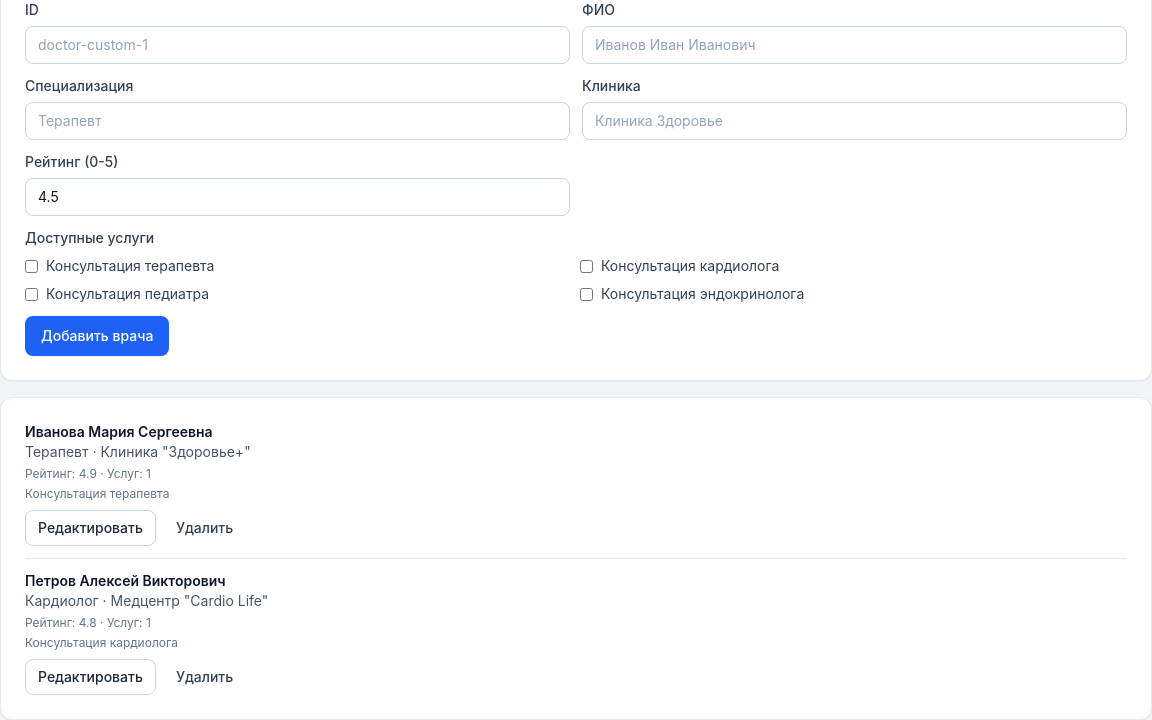
AdminDoctorsPage integration › редактирует врача и обновляет назначенные услуги
The image size is (1152, 720).
(page scrolled)
Expected: the element "Иванова Мария Сергеевна" is shown, [25,423,251,546]
Click the button "Редактировать" below "4.9": (90, 528) [25,510,156,546]
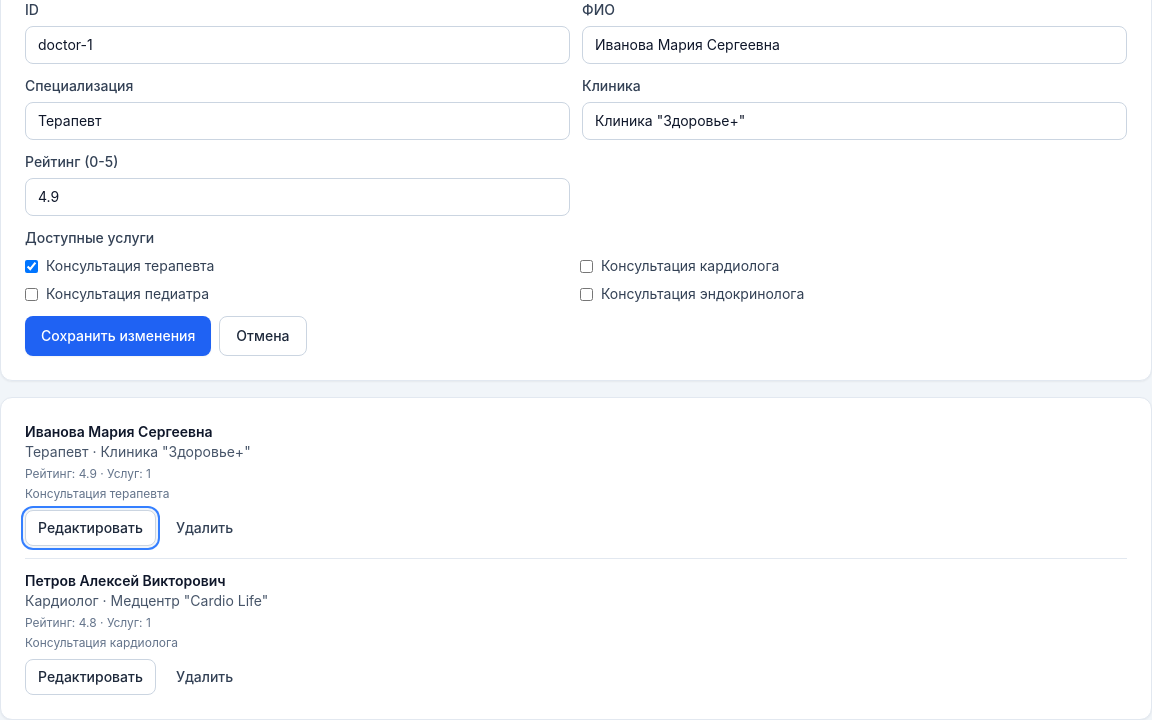
Replace the text in the field labelled "ФИО" with "Иванова Мария Сергеевна+": (854, 45) [582,26,1127,64]
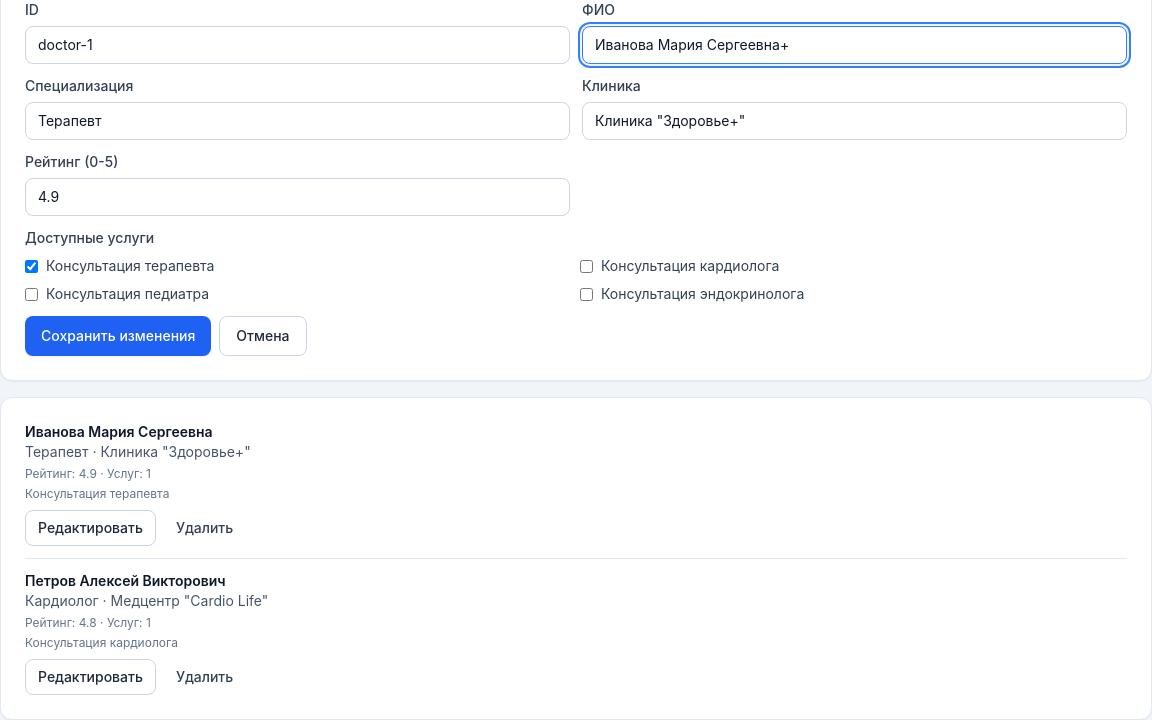
Click the checkbox labelled "Консультация кардиолога": (586, 266) [580,260,593,272]
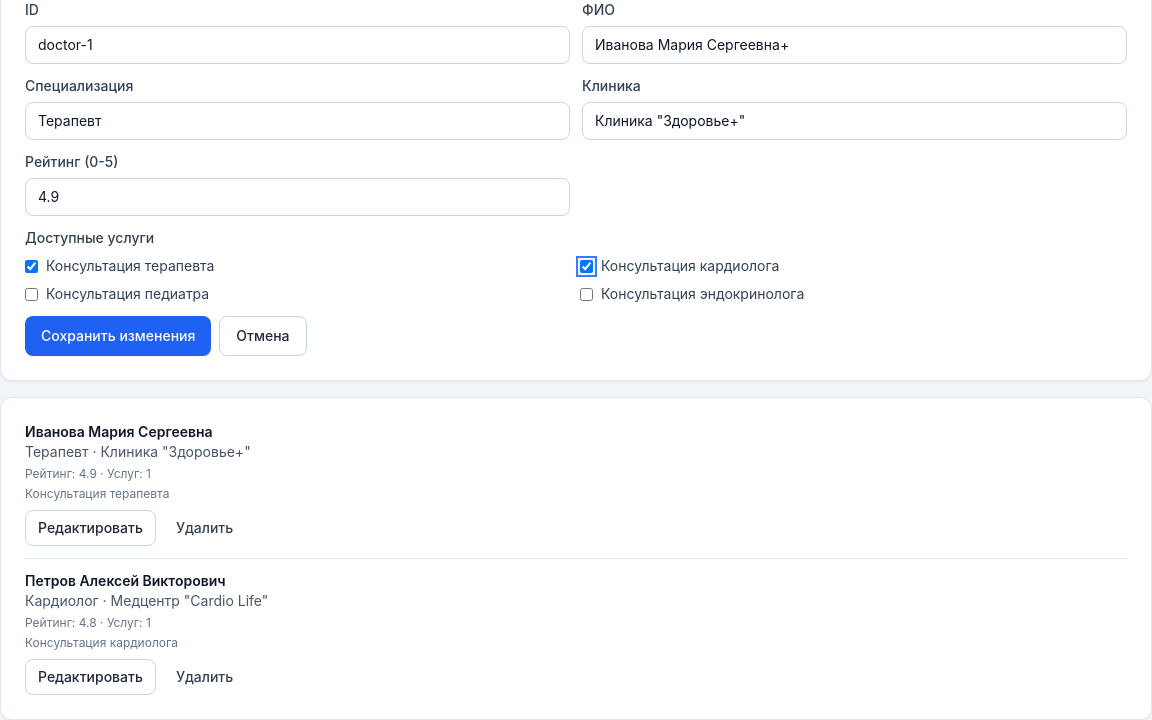
Click the button "Сохранить изменения": (118, 336) [25,316,211,356]
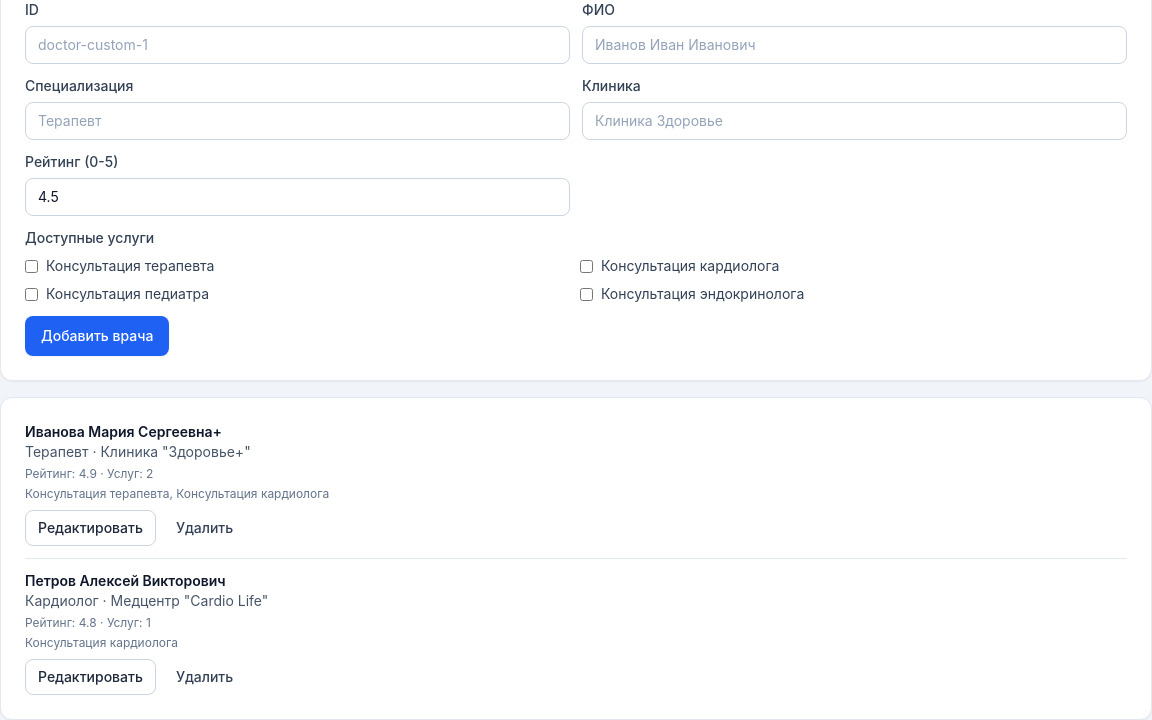
Expected: the heading "Иванова Мария Сергеевна+" is shown, [25,423,222,440]
Result: the text "Рейтинг: 4.9 · Услуг: 2" is shown at [25,466,153,481]
